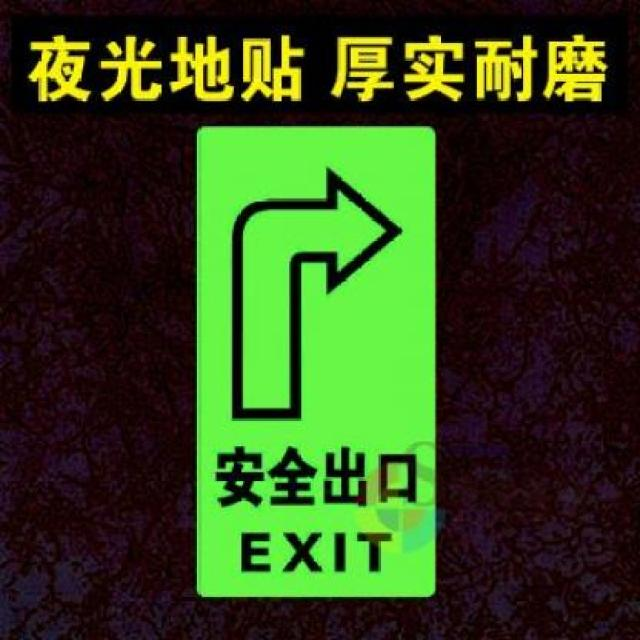exit_sign: (185, 118, 446, 601)
